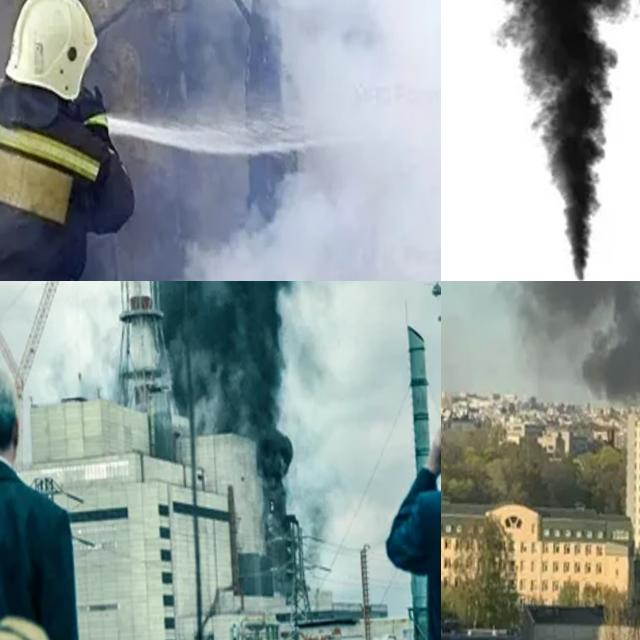smoke: (441, 0, 640, 281), (150, 281, 292, 443), (516, 281, 640, 424)
